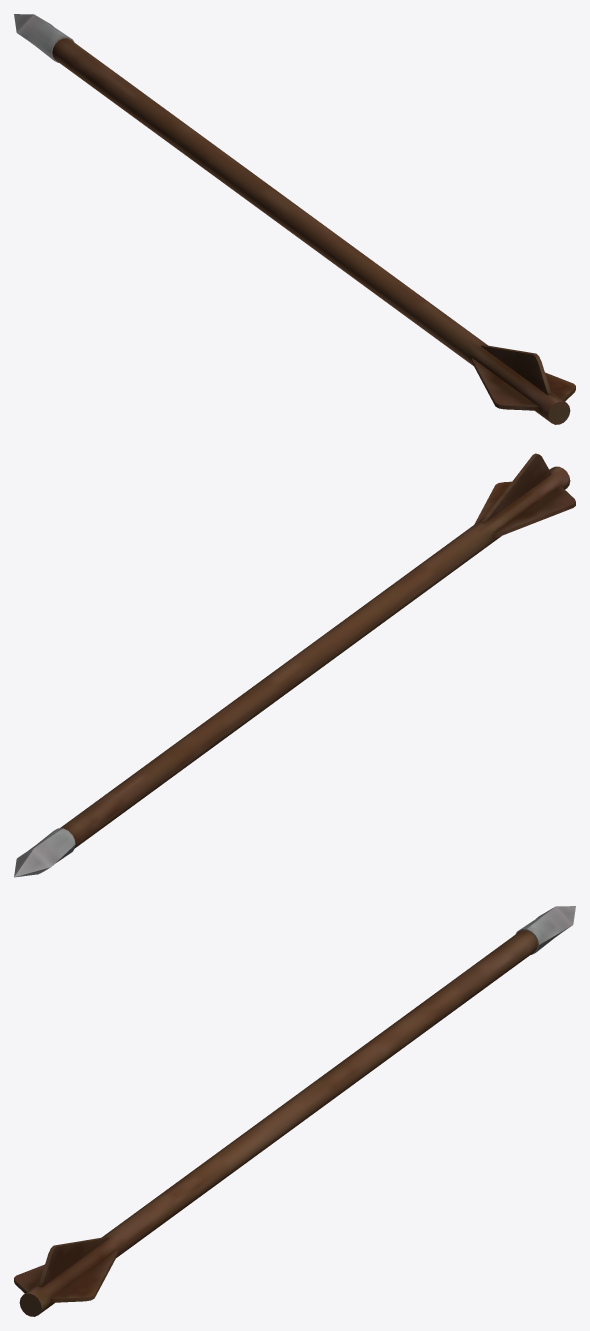
File: bolt.glb
The picture shows the model from 3 angles, top to bottom: view 1: azimuth 30°, elevation 25°; view 2: azimuth 150°, elevation 25°; view 3: azimuth 330°, elevation 25°; orthographic projection.
Parts seen in each view (by area): view 1: Crossbow_Bolt_10_inch_Arrows_0; view 2: Crossbow_Bolt_10_inch_Arrows_0; view 3: Crossbow_Bolt_10_inch_Arrows_0.
Part boxes in pixels (x1=…): Crossbow_Bolt_10_inch_Arrows_0: x1=14, y1=14, x2=575, y2=424; Crossbow_Bolt_10_inch_Arrows_0: x1=14, y1=453, x2=575, y2=877; Crossbow_Bolt_10_inch_Arrows_0: x1=14, y1=906, x2=575, y2=1316.
Size of the model in its own units: 0.0231 by 0.0152 by 0.2793.
1 material, 1 textured.
